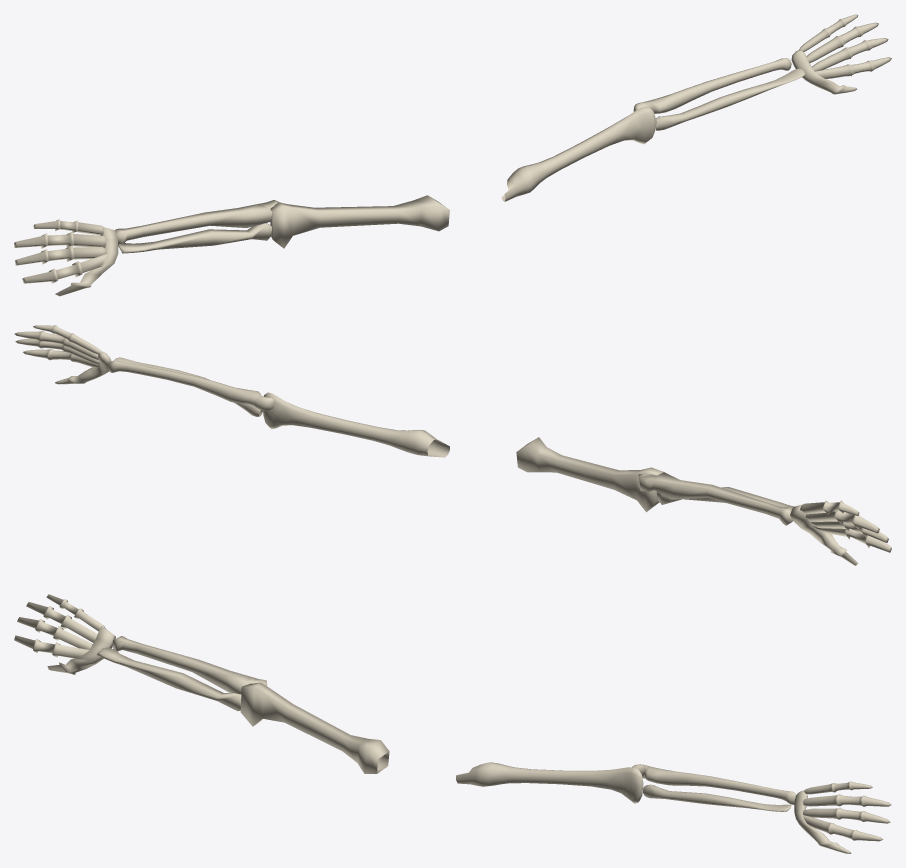
3 views of the same model, one above another, from view 1: azimuth 30°, elevation 25°; view 2: azimuth 150°, elevation 25°; view 3: azimuth 330°, elevation 25° (orthographic). The views are drawn at different scales.
Parts seen in each view (by area): view 1: Skeleton_lowPoly, Skeleton_highPoly; view 2: Skeleton_lowPoly, Skeleton_highPoly; view 3: Skeleton_lowPoly, Skeleton_highPoly.
Boxes of the visible parts, x1=… form: Skeleton_lowPoly: x1=14, y1=195, x2=449, y2=296; Skeleton_highPoly: x1=501, y1=14, x2=891, y2=201; Skeleton_lowPoly: x1=516, y1=437, x2=891, y2=565; Skeleton_highPoly: x1=14, y1=325, x2=449, y2=457; Skeleton_lowPoly: x1=14, y1=594, x2=389, y2=773; Skeleton_highPoly: x1=456, y1=762, x2=891, y2=853.
Size of the model in its own units: 3 by 0.2362 by 0.309.
